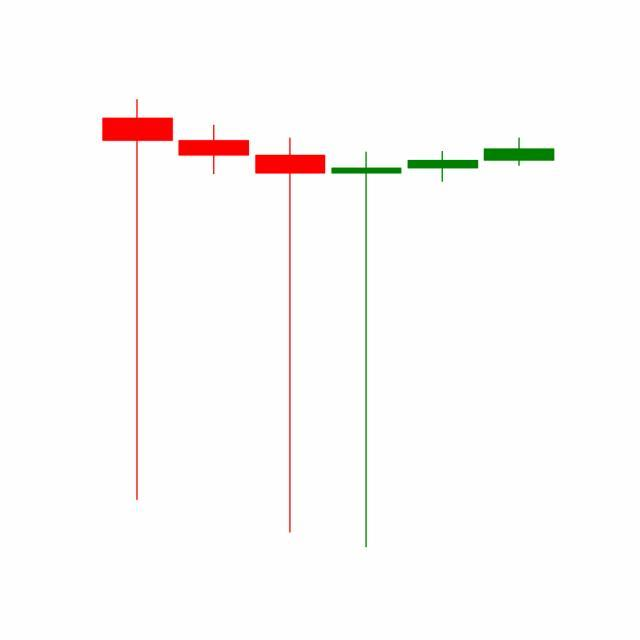Spinning Top: (404, 151, 482, 183)
